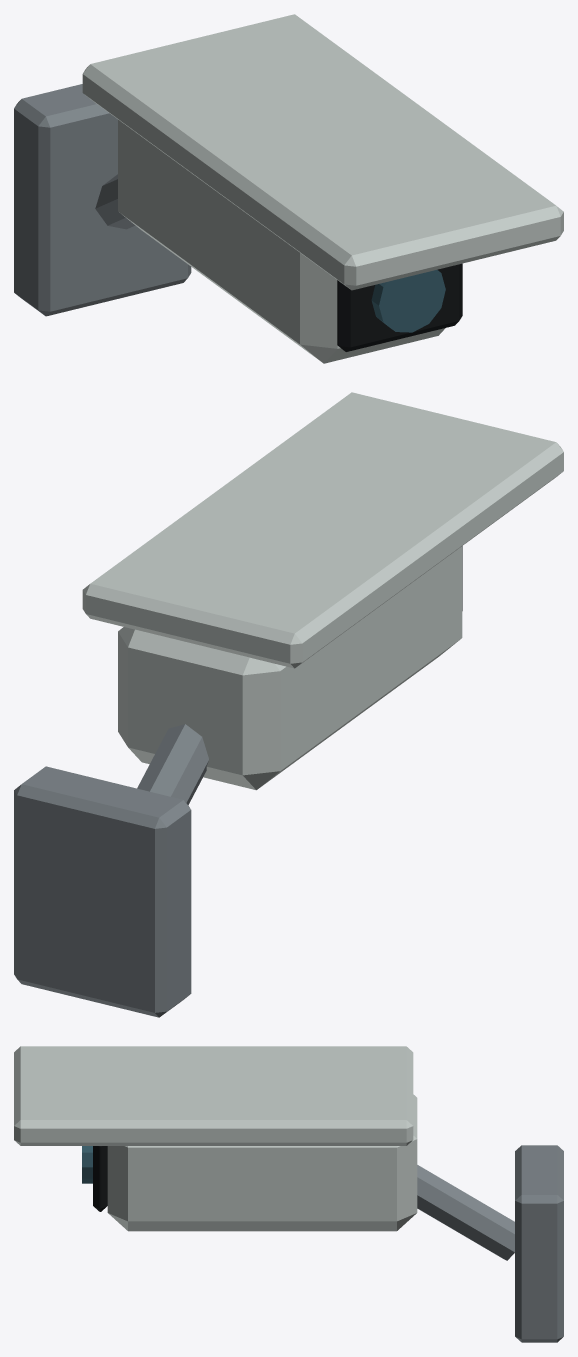
Rendered from BulletSecurityCamera.fbx.
3 views of the same model, one above another, from view 1: azimuth 30°, elevation 25°; view 2: azimuth 150°, elevation 25°; view 3: azimuth 270°, elevation 25° (orthographic). The views are drawn at different scales.
Visible parts, largest first — view 1: BulletSecurityCamera; view 2: BulletSecurityCamera; view 3: BulletSecurityCamera.
Boxes of the visible parts, x1,y1,x2,y2 form: BulletSecurityCamera: [14, 14, 563, 363]; BulletSecurityCamera: [14, 392, 563, 1017]; BulletSecurityCamera: [14, 1046, 563, 1342].
Size of the model in its own units: 23 by 31.75 by 67.5.
Materials: 1 (1 with a texture image).
